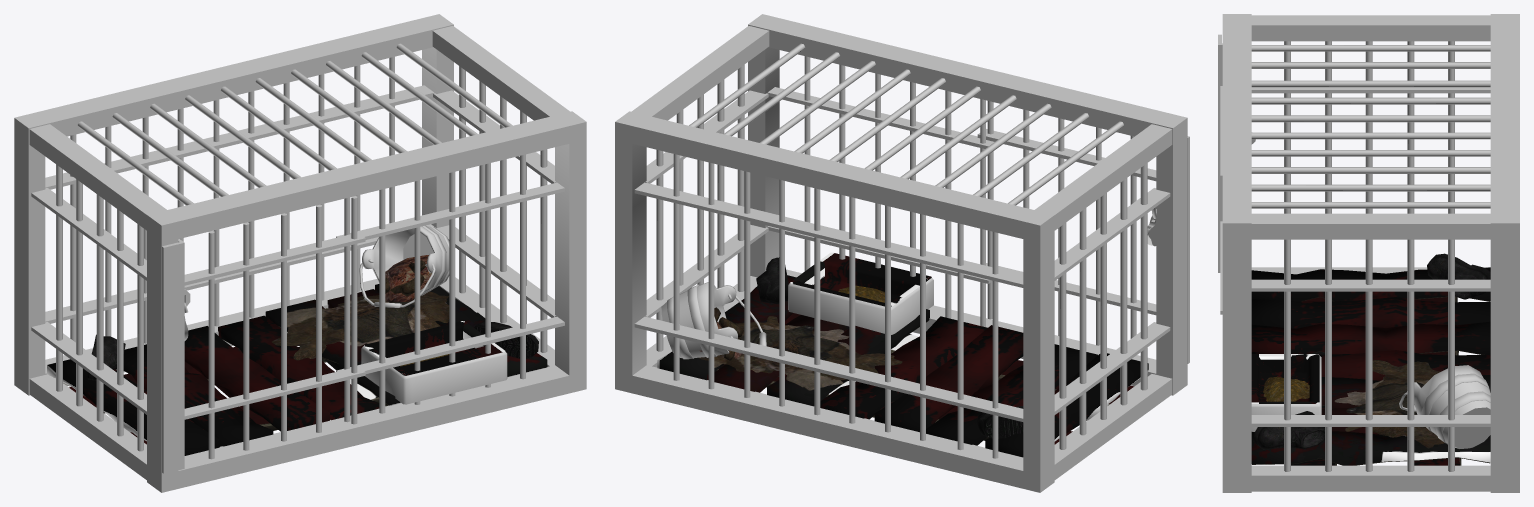
File: cage_01.DAE
The picture shows the model from 3 angles, left to right: view 1: azimuth 30°, elevation 25°; view 2: azimuth 150°, elevation 25°; view 3: azimuth 270°, elevation 25°; orthographic projection.
Parts seen in each view (by area): view 1: Object025, Object028, Object027, Plane002, Box004, bucket003, Object023; view 2: Object025, Object028, Plane002, Object027, Box004, bucket003; view 3: Object025, Object028, Plane002, bucket003, Object027, Box004, Object026.
Part boxes in pixels (box(x1,y1,x2,y2)): Object025: box(14, 14, 586, 492); Object028: box(47, 284, 547, 455); Object027: box(162, 196, 365, 473); Plane002: box(87, 291, 538, 380); Box004: box(361, 346, 507, 404); bucket003: box(362, 225, 449, 295); Object023: box(385, 255, 431, 302); Object025: box(615, 14, 1187, 492); Object028: box(657, 252, 1148, 457); Plane002: box(698, 257, 1023, 438); Object027: box(977, 101, 1189, 363); Box004: box(788, 278, 933, 334); bucket003: box(661, 282, 737, 359); Object025: box(1222, 14, 1519, 492); Object028: box(1251, 267, 1490, 465); Plane002: box(1253, 253, 1490, 449); bucket003: box(1407, 365, 1490, 448); Object027: box(1218, 34, 1222, 314); Box004: box(1251, 356, 1321, 431); Object026: box(1252, 296, 1490, 465).
Size of the model in its own units: 2.5 by 1.51 by 1.52.
